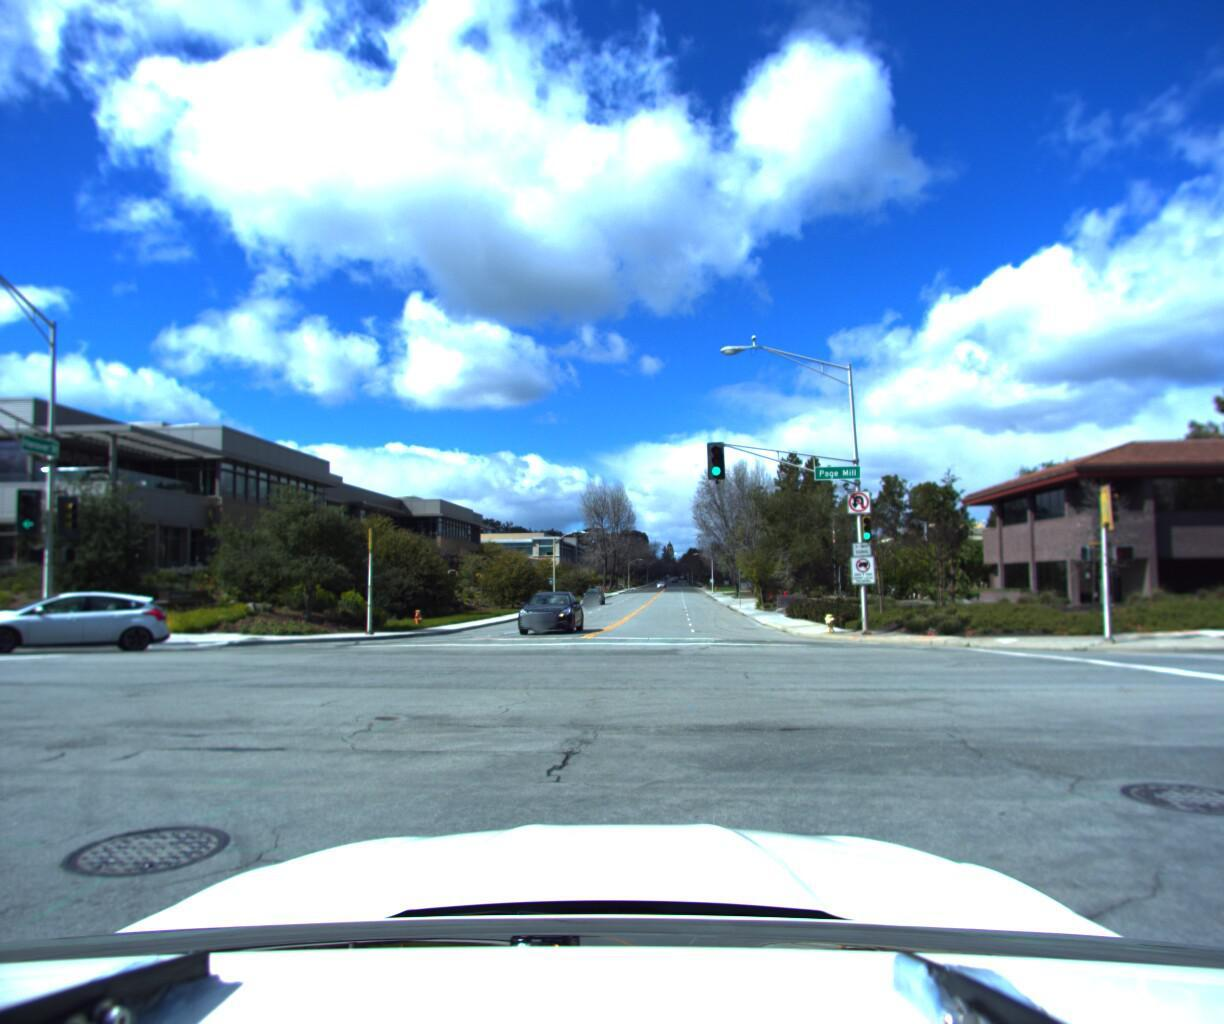car: (0, 591, 171, 665), (508, 589, 589, 638), (583, 588, 606, 607)
